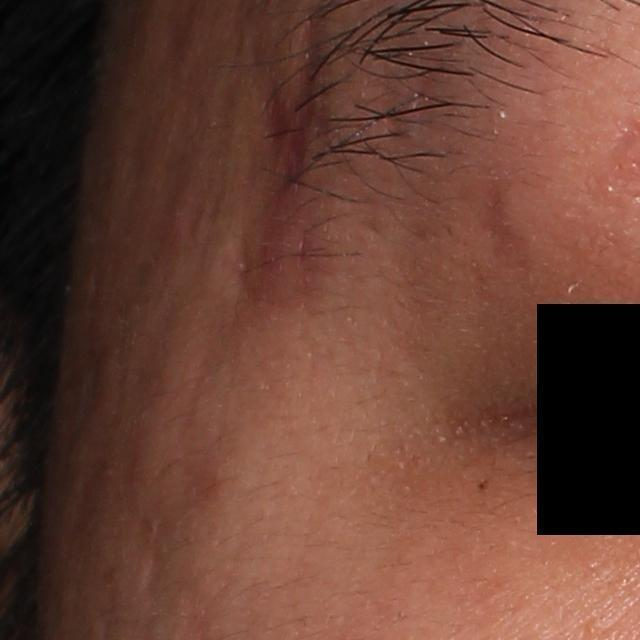atrophic_scar: (240, 23, 333, 273), (457, 172, 553, 282), (203, 229, 249, 372)
